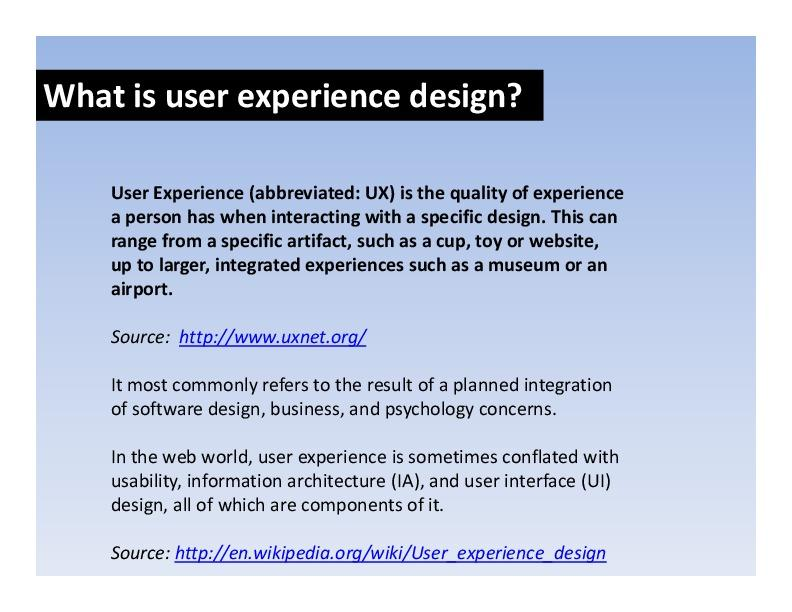paragraph: (98, 169, 673, 595)
title: (39, 70, 538, 124)
